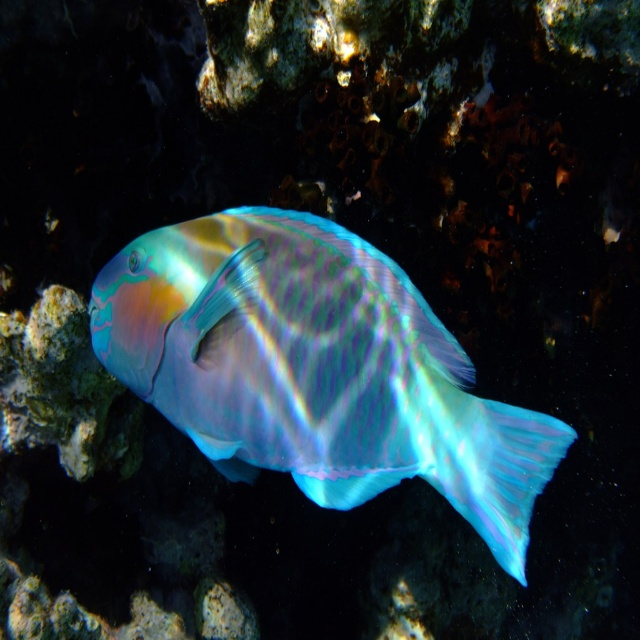Fish: (95, 183, 581, 585)
